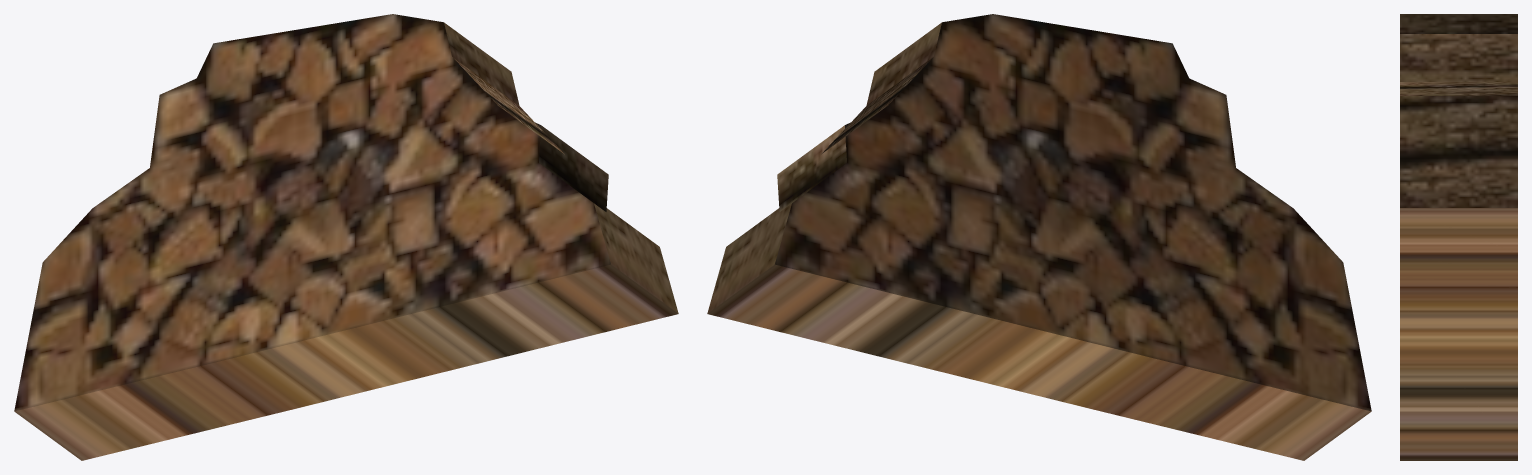
File: logs.glb
The picture shows the model from 3 angles, left to right: view 1: azimuth 30°, elevation 25°; view 2: azimuth 150°, elevation 25°; view 3: azimuth 270°, elevation 25°; orthographic projection. The views are drawn at different scales.
Visible parts, largest first — view 1: logs; view 2: logs; view 3: logs.
Boxes of the visible parts, bbox=[...] form: logs: bbox=[14, 14, 678, 460]; logs: bbox=[707, 14, 1371, 460]; logs: bbox=[1400, 14, 1517, 460].
Bounding box in the file's own units: 2.35 × 1.2 × 0.46.
Materials: 1 (1 with a texture image).
